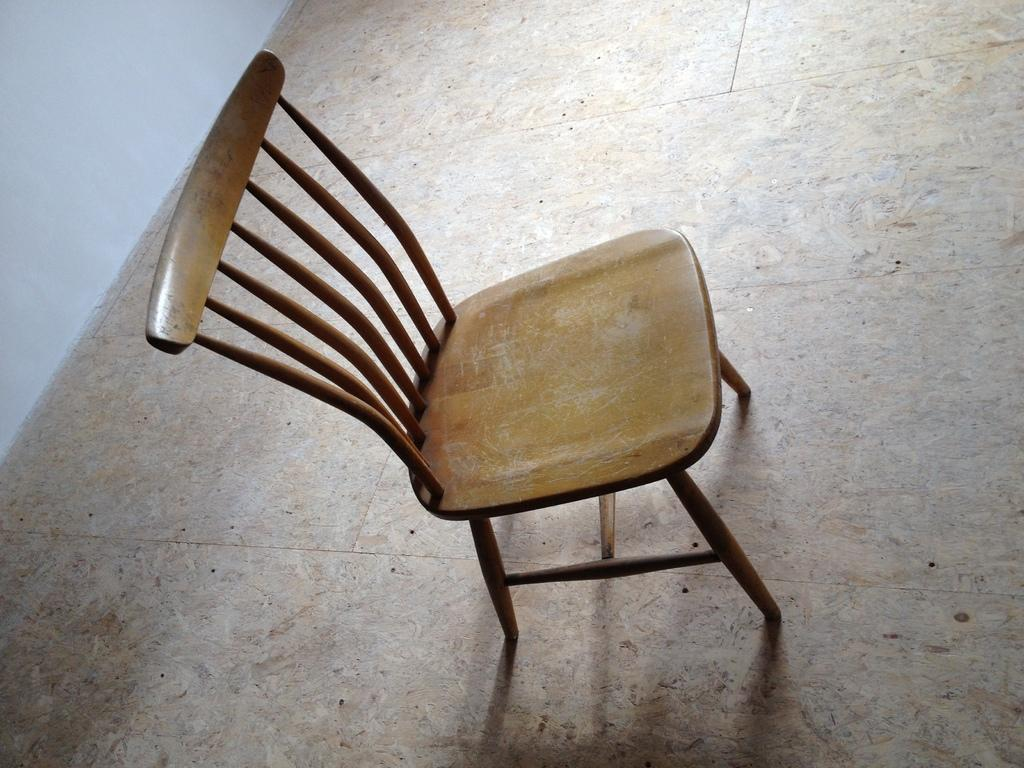Chair: (144, 50, 787, 643)
